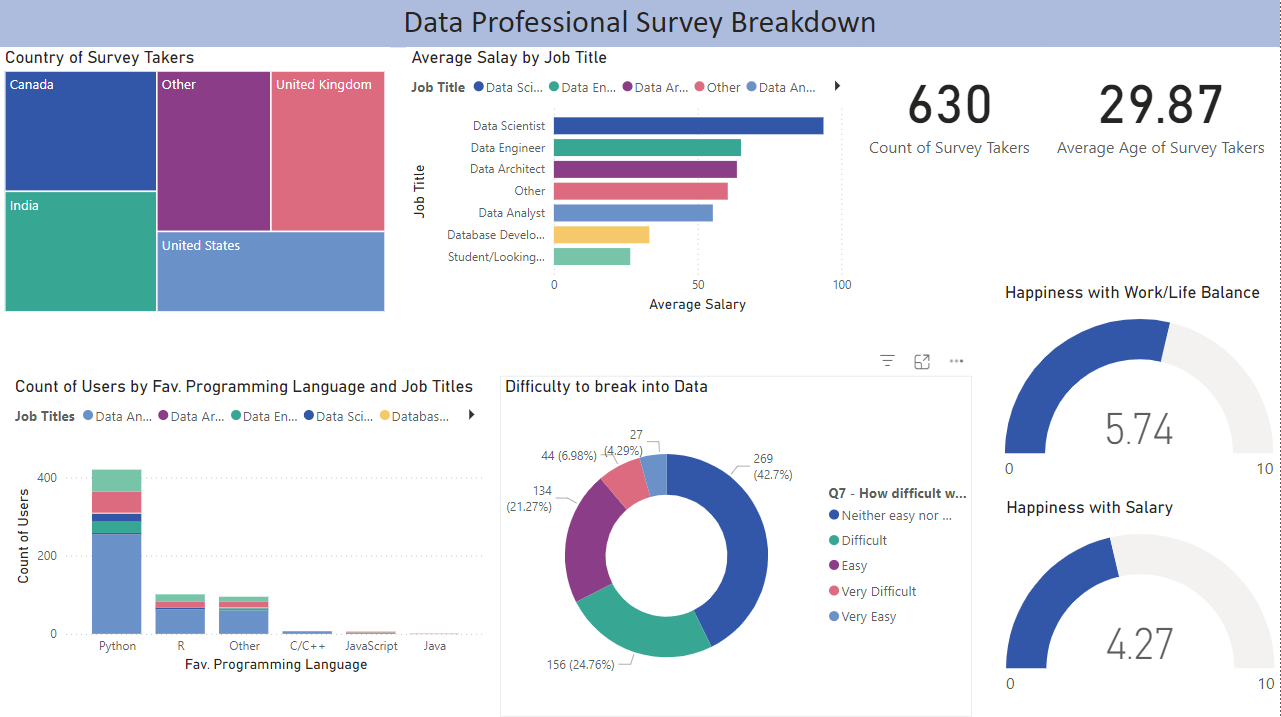

This screenshot's page, from the dashboard's own definition file:
{"tool":"powerbi","page":{"name":"Page 1","canvas":[1280,720],"ordinal":0},"visuals":[{"type":"textbox","box":[0,0,1279.8,50.3],"z":0},{"type":"card","fields":{"Values":["Avg(Data Professional Survey.Q10 - Current Age)"]},"box":[1043,50.3,236.8,122.7],"z":1000},{"type":"card","fields":{"Values":["CountNonNull(Data Professional Survey.Unique ID)"]},"box":[856.4,50.3,186.5,122.7],"z":2000},{"type":"barChart","title":"Average Salay by Job Title","fields":{"Category":["Data Professional Survey.Q1 - Which Title Best Fits your Current Role?.1"],"Y":["Avg(Data Professional Survey.Average Salary)"],"Series":["Data Professional Survey.Q1 - Which Title Best Fits your Current Role?.1"]},"box":[406.1,50.3,450.3,269.9],"z":3000},{"type":"columnChart","fields":{"Category":["Data Professional Survey.Q5 - Favorite Programming Language.1"],"Y":["CountNonNull(Data Professional Survey.Unique ID)"],"Series":["Data Professional Survey.Q1 - Which Title Best Fits your Current Role?.1"]},"box":[9.8,379.1,481,301.8],"z":4000},{"type":"treemap","title":"Country of Survey Takers","fields":{"Group":["Data Professional Survey.Q11 - Which Country do you live in?.1"],"Values":["Count(Data Professional Survey.Q11 - Which Country do you live in?.1)"]},"box":[0,50.3,390.2,269.9],"z":5000},{"type":"gauge","title":"Happiness with Work/Life Balance","fields":{"Y":["Avg(Data Professional Survey.Q6 - How Happy are you in your Current Position with the following? (Work/Life Balance))"],"MinValue":["Min(Data Professional Survey.Q6 - How Happy are you in your Current Position with the following? (Work/Life Balance))"],"MaxValue":["Max(Data Professional Survey.Q6 - How Happy are you in your Current Position with the following? (Work/Life Balance))"]},"box":[1000,284.7,278.5,220.9],"z":6000},{"type":"gauge","title":"Happiness with Salary","fields":{"Y":["Avg(Data Professional Survey.Q6 - How Happy are you in your Current Position with the following? (Salary))"],"MinValue":["Min(Data Professional Survey.Q6 - How Happy are you in your Current Position with the following? (Salary))"],"MaxValue":["Max(Data Professional Survey.Q6 - How Happy are you in your Current Position with the following? (Salary))"]},"box":[1001.2,499.4,278.5,220.9],"z":7000},{"type":"donutChart","title":"Difficulty to break into Data","fields":{"Category":["Data Professional Survey.Q7 - How difficult was it for you to break into Data?"],"Y":["CountNonNull(Data Professional Survey.Q7 - How difficult was it for you to break into Data?)"]},"box":[500.6,379.1,472.4,341.1],"z":7001}]}

Visuals, with their boxes in screenshot pixels (x1, y1, x2, y2), scaled from the page's 1280x720 canvas onto the 1281x717 screenshot:
textbox: l=0, t=0, r=1280, b=50
card - Avg(Data Professional Survey.Q10 - Current Age): l=1044, t=50, r=1280, b=172
card - CountNonNull(Data Professional Survey.Unique ID): l=857, t=50, r=1044, b=172
"Average Salay by Job Title" barChart: l=406, t=50, r=857, b=319
columnChart - Data Professional Survey.Q5 - Favorite Programming Language.1 x CountNonNull(Data Professional Survey.Unique ID): l=10, t=378, r=491, b=678
"Country of Survey Takers" treemap: l=0, t=50, r=391, b=319
"Happiness with Work/Life Balance" gauge: l=1001, t=284, r=1279, b=503
"Happiness with Salary" gauge: l=1002, t=497, r=1280, b=716
"Difficulty to break into Data" donutChart: l=501, t=378, r=974, b=716
